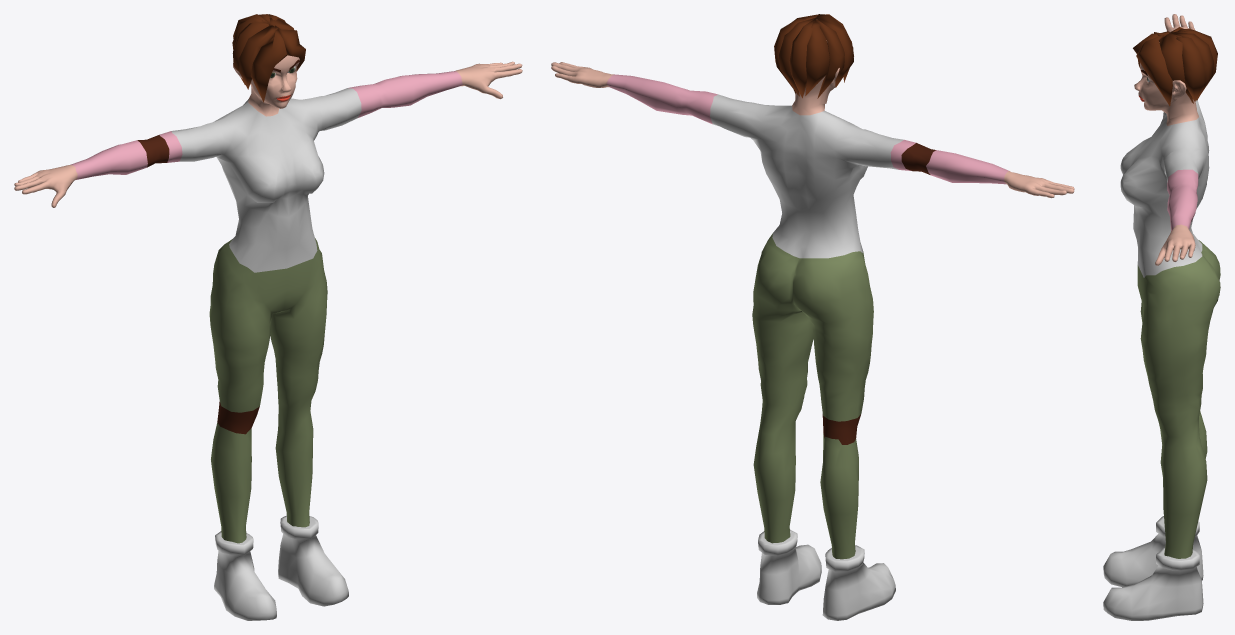
The model's file is MULHER_FREE_5_cabelo_e_olho.fbx.
The picture shows the model from 3 angles, left to right: view 1: azimuth 30°, elevation 25°; view 2: azimuth 150°, elevation 25°; view 3: azimuth 270°, elevation 25°; orthographic projection. The views are drawn at different scales.
Visible parts, largest first — view 1: Mesh.002; view 2: Mesh.002; view 3: Mesh.002.
Boxes of the visible parts, x1=… form: Mesh.002: x1=14, y1=14, x2=522, y2=620; Mesh.002: x1=551, y1=14, x2=1074, y2=620; Mesh.002: x1=1103, y1=14, x2=1220, y2=620.
Bounding box in the file's own units: 168 × 180 × 33.91.
